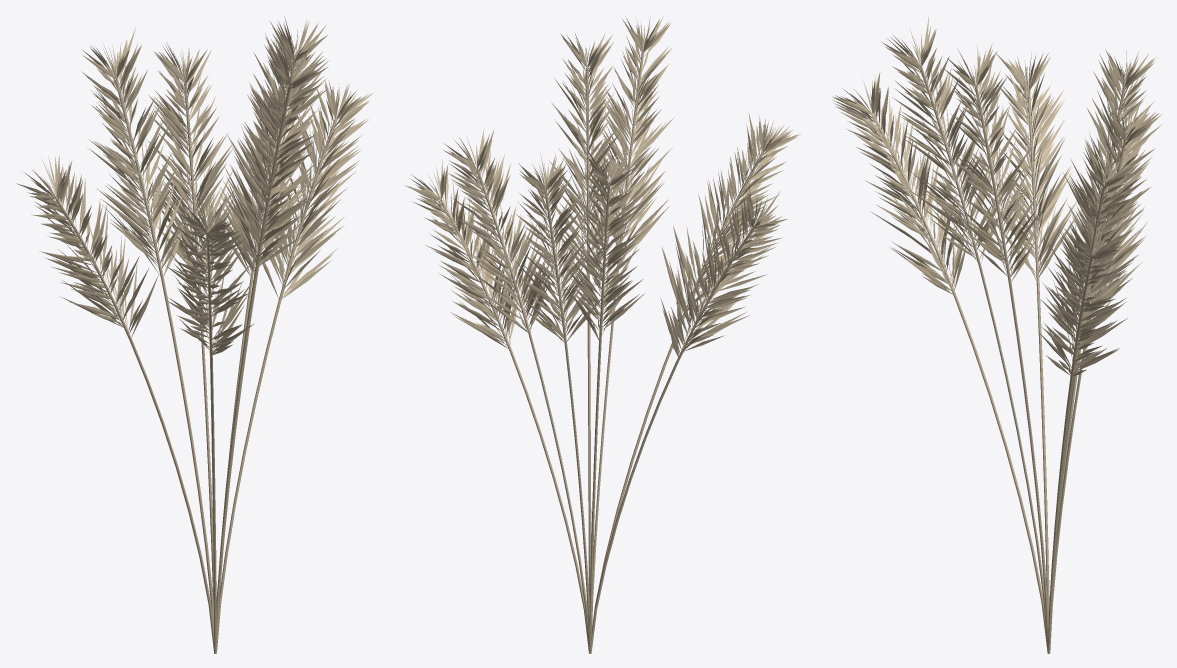
File: pampas-2.glb
The picture shows the model from 3 angles, left to right: view 1: azimuth 30°, elevation 25°; view 2: azimuth 150°, elevation 25°; view 3: azimuth 270°, elevation 25°; orthographic projection. The views are drawn at different scales.
Parts seen in each view (by area): view 1: pampas-leaves, pampas-stems; view 2: pampas-leaves, pampas-stems; view 3: pampas-leaves, pampas-stems.
Part boxes in pixels (x1,y1,x2,y2): pampas-leaves: [16, 16, 372, 355]; pampas-stems: [55, 61, 336, 653]; pampas-leaves: [405, 16, 801, 357]; pampas-stems: [440, 52, 763, 653]; pampas-leaves: [833, 15, 1161, 376]; pampas-stems: [873, 67, 1126, 653].
Size of the model in its own units: 0.4248 by 0.6962 by 0.3309.
